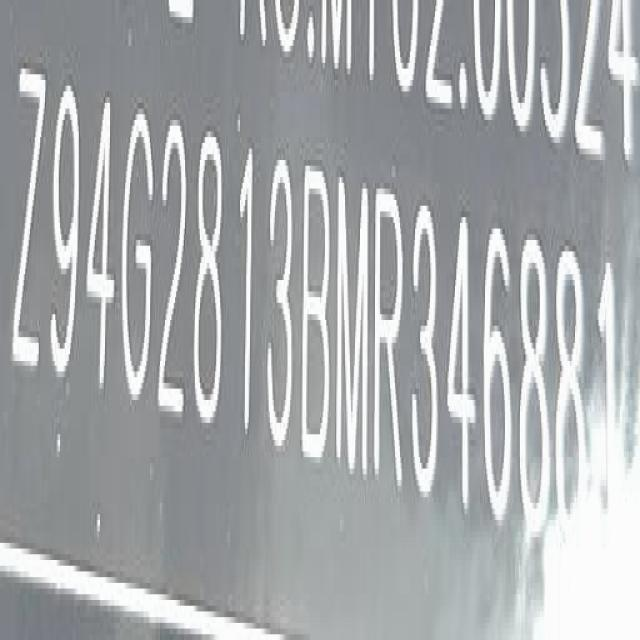1: (593, 249, 624, 543), (235, 140, 255, 440)
2: (160, 112, 190, 420)
3: (412, 200, 441, 504), (267, 154, 296, 453)
4: (446, 213, 479, 517), (87, 88, 117, 396)
6: (483, 221, 514, 522)
8: (196, 128, 227, 433), (518, 231, 550, 519), (556, 243, 588, 512)
9: (48, 72, 80, 384)
B: (302, 160, 334, 462)
G: (122, 106, 158, 411)
M: (337, 172, 369, 478)
R: (376, 184, 407, 491)
Z: (14, 58, 47, 382)
